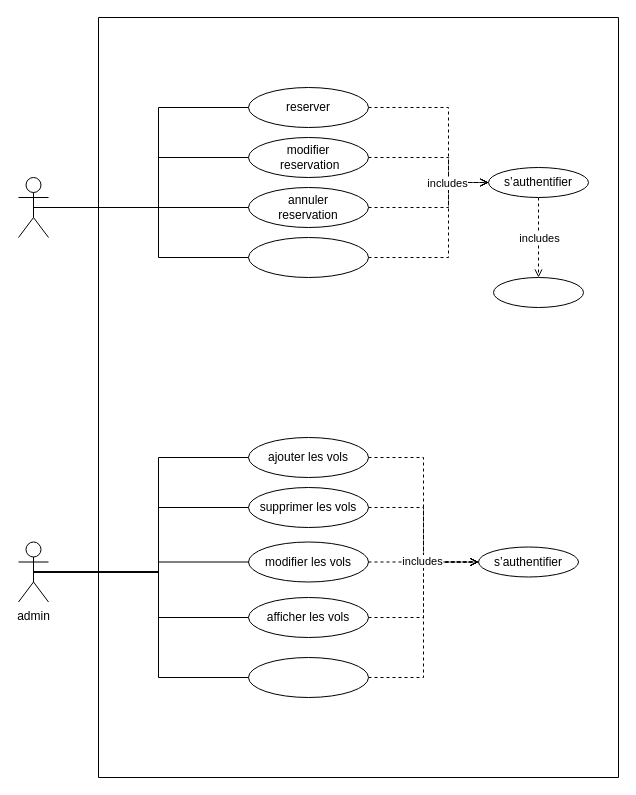
The diagram is 636 pixels wide and 795 high, and some of its shapes have lost their labels. Here are the shapes that lost their labels. From the top down, the centre of each, then its label:
the point at 33,207: user
the point at 308,257: suivre reservation
the point at 538,292: s’inscrire
the point at 308,677: afficher les reservations
